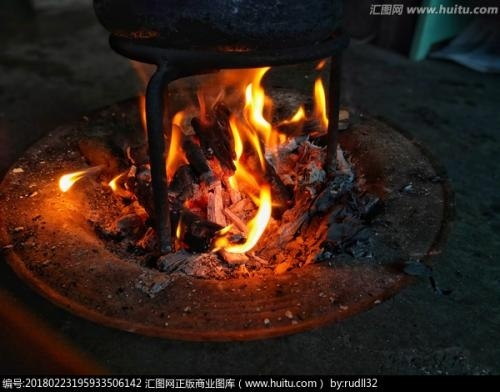fire: (216, 63, 278, 250), (163, 108, 189, 177), (312, 62, 330, 129), (56, 169, 84, 193)
